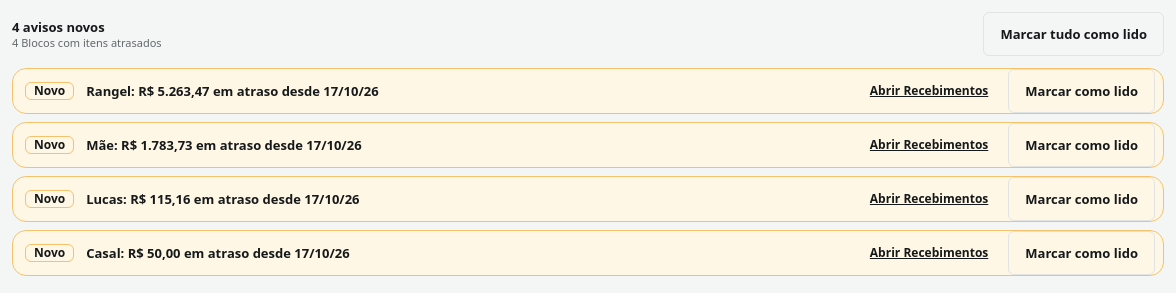
Scenario: Central de Avisos: marcar como lido › 'Marcar como lido' marca só aquele aviso, sem sair da tela
Step 1. Click the button with aria-label "Marcar como lido: " → (1082,145), box x1=1008 y1=123 x2=1155 y2=167
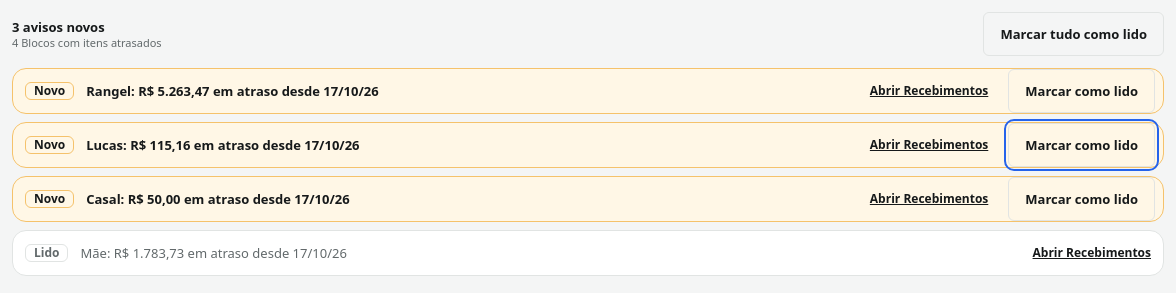
Expected: the text "Lido" is shown, x1=25 y1=244 x2=68 y2=262
Expected: the text "3 avisos novos" is shown, x1=12 y1=18 x2=105 y2=36
